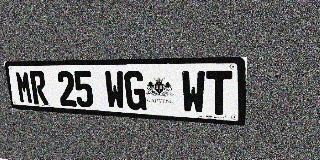2: (56, 71, 77, 107)
5: (73, 71, 94, 108)
G: (124, 71, 146, 111)
M: (15, 71, 34, 104)
R: (29, 71, 49, 105)
T: (206, 70, 232, 116)
W: (181, 70, 206, 114), (104, 71, 126, 109)
